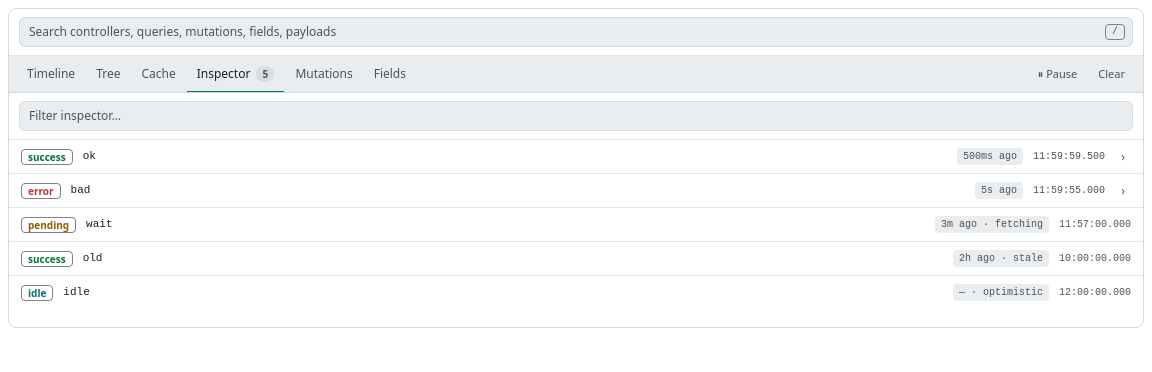
Test: Cache inspector › shows status colour, age and state tags per entry
The image size is (1152, 372).
# The error is shown in preference to the data.
Click the element with class "olas-devtools-row-top" that starts with "error". click: (41, 190)
box: [21, 182, 1125, 199]
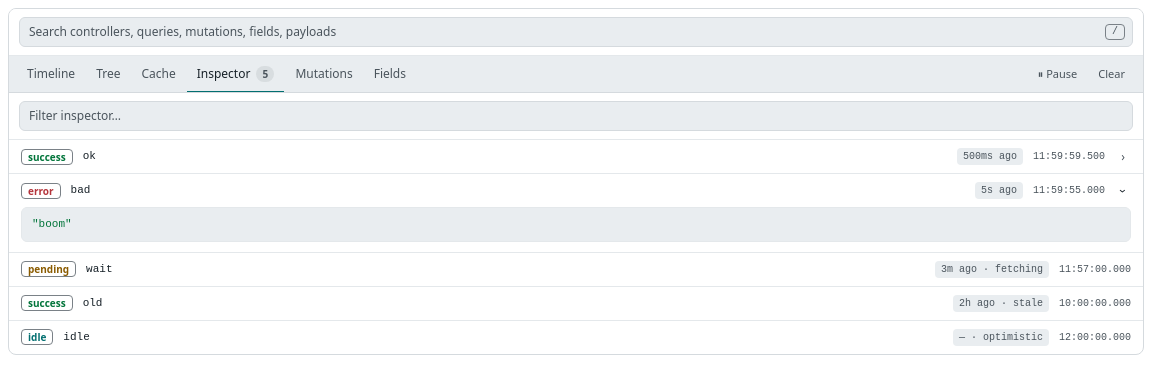
expect the text with class "olas-devtools-tab-count" reads "5": met, box [263, 67, 268, 81]
expect the element with class "olas-devtools-payload-json" reads "\"boom\"": met, box [21, 207, 1131, 242]
